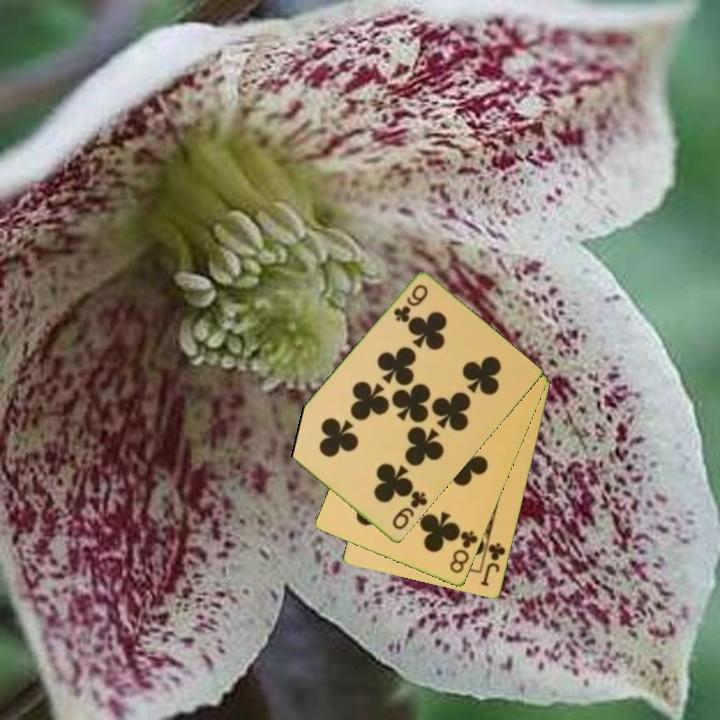8c: (446, 527, 481, 577)
9c: (388, 487, 431, 533), (390, 281, 431, 326)
Jc: (477, 539, 509, 589)
